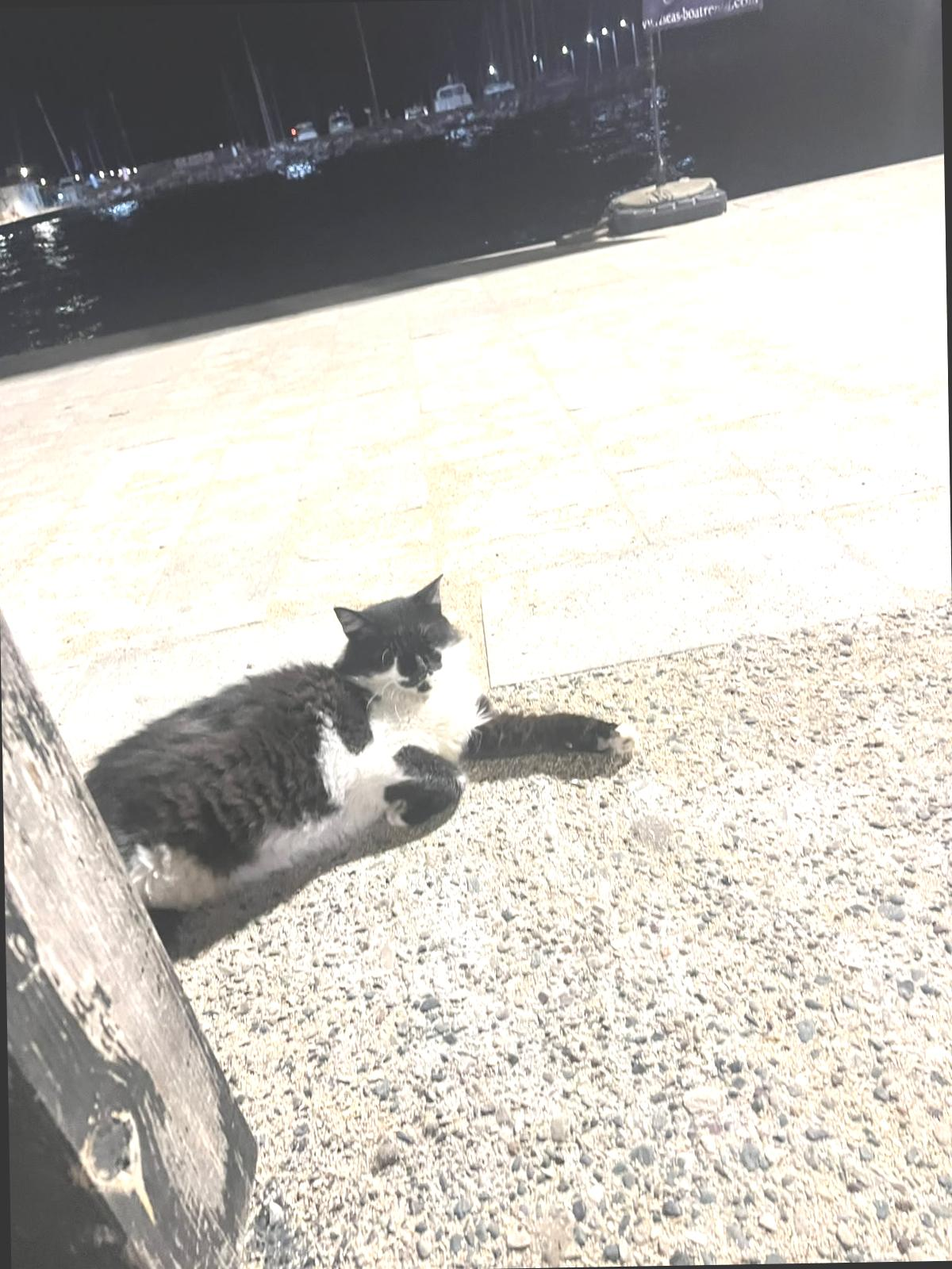macka: (81, 567, 637, 909)
